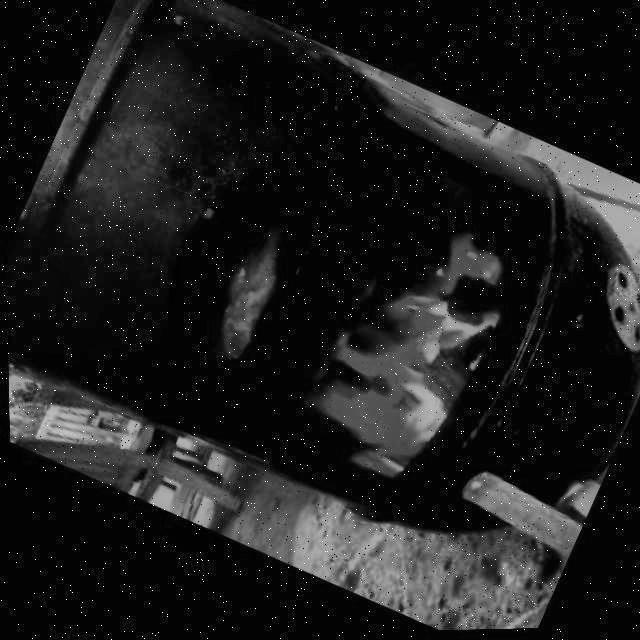Fire: (275, 185, 530, 501)
